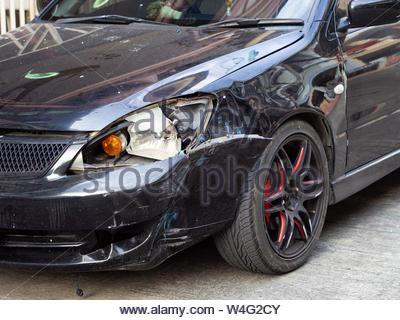Headlight-Damage: (119, 91, 217, 160)
fender-dent: (216, 60, 346, 156)
front-bumper-dent: (0, 172, 229, 274)
